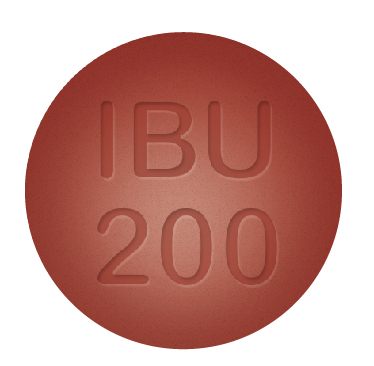Ibuprofen 200 MG Oral Tablet: (22, 30, 350, 355)
